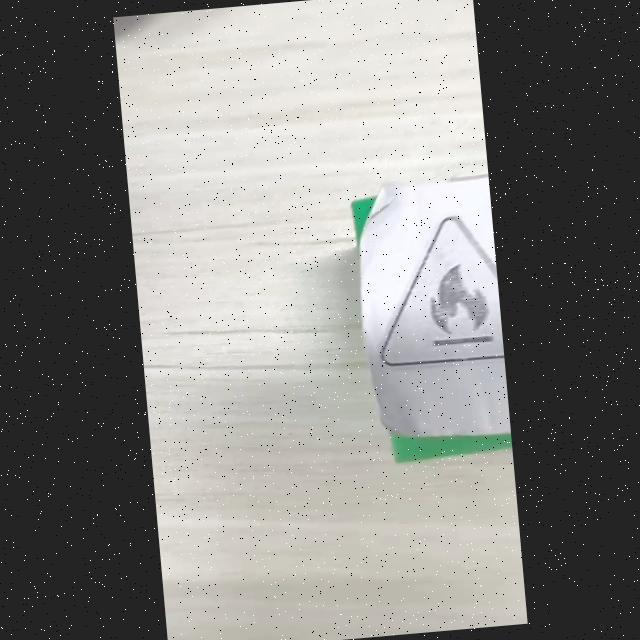Fire: (382, 216, 504, 368)
